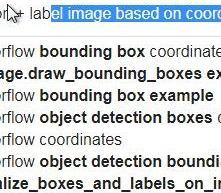cursor: (3, 1, 23, 27)
